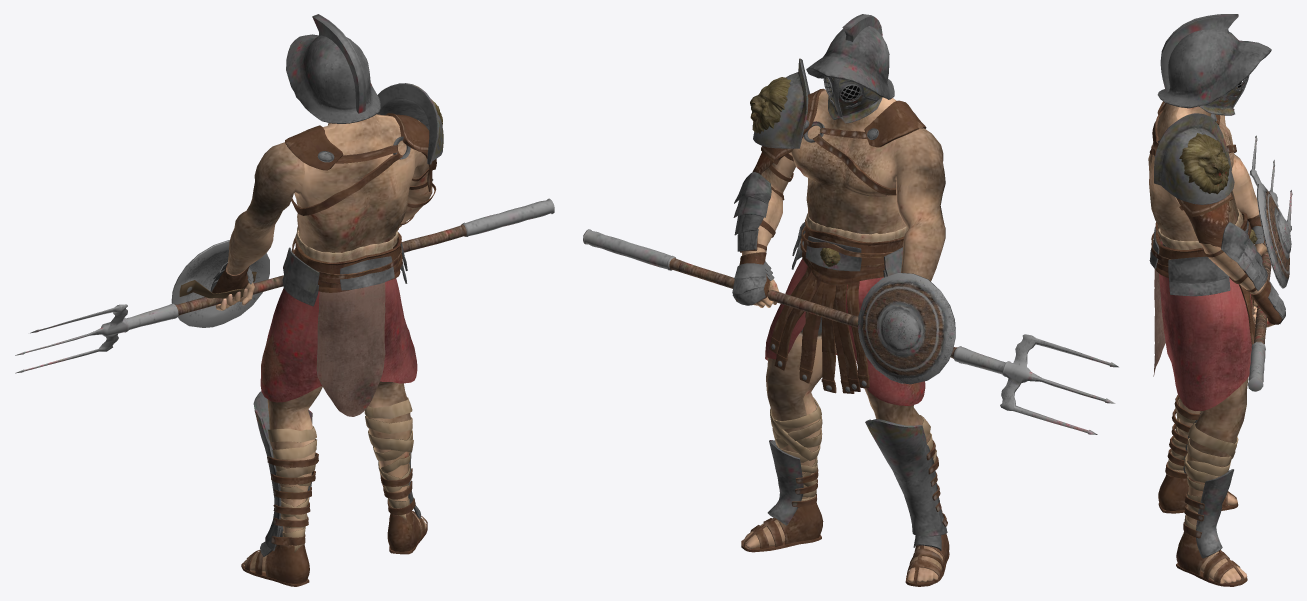
The model's file is sf_god_ares.glb.
The picture shows the model from 3 angles, left to right: view 1: azimuth 30°, elevation 25°; view 2: azimuth 150°, elevation 25°; view 3: azimuth 270°, elevation 25°; orthographic projection. The views are drawn at different scales.
Visible parts, largest first — view 1: Object_6, Object_2, Object_3, Object_4, Object_5; view 2: Object_6, Object_3, Object_4, Object_5, Object_2, Object_7; view 3: Object_3, Object_2, Object_4, Object_6, Object_5, Object_7.
Part boxes in pixels (box(x1,y1,x2,y2)): Object_6: box(215, 114, 432, 572); Object_2: box(260, 226, 417, 552); Object_3: box(210, 14, 443, 556); Object_4: box(212, 113, 436, 586); Object_5: box(15, 198, 554, 373); Object_6: box(742, 85, 945, 582); Object_3: box(732, 14, 947, 550); Object_4: box(733, 88, 949, 586); Object_5: box(583, 229, 1118, 434); Object_2: box(765, 213, 936, 501); Object_7: box(743, 172, 771, 231); Object_3: box(1149, 14, 1285, 558); Object_2: box(1153, 208, 1254, 534); Object_4: box(1149, 101, 1281, 586); Object_6: box(1148, 82, 1274, 583); Object_5: box(1248, 135, 1292, 391); Object_7: box(1225, 222, 1262, 260).
Bounding box in the file's own units: 26.87 × 25.88 × 6.48.
5 materials, 5 textured.
